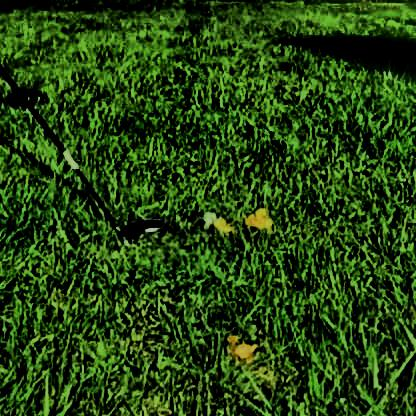golfball: (198, 207, 215, 226)
